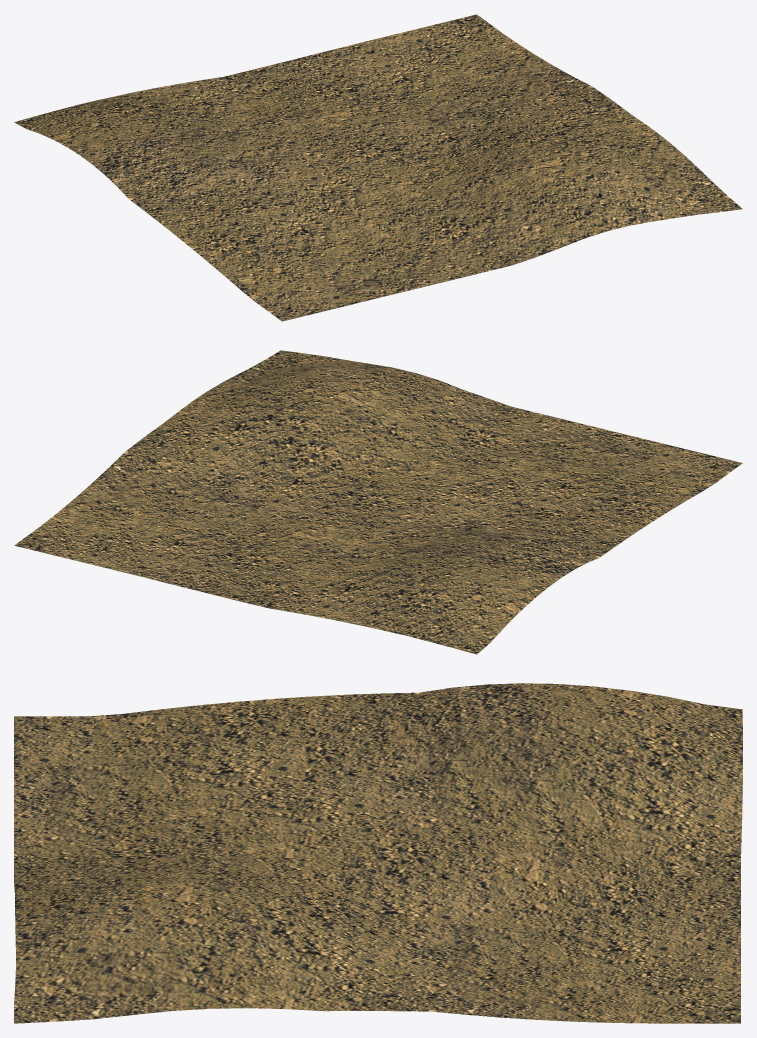
File: Field_Simple.fbx
The picture shows the model from 3 angles, top to bottom: view 1: azimuth 30°, elevation 25°; view 2: azimuth 150°, elevation 25°; view 3: azimuth 270°, elevation 25°; orthographic projection. The views are drawn at different scales.
Visible parts, largest first — view 1: obj1; view 2: obj1; view 3: obj1.
Boxes of the visible parts, left/top/right/bottom form: obj1: left=14, top=14, right=742, bottom=321; obj1: left=14, top=350, right=742, bottom=654; obj1: left=14, top=683, right=742, bottom=1023.
Bounding box in the file's own units: 407 × 28.52 × 401.
1 material, 1 textured.
